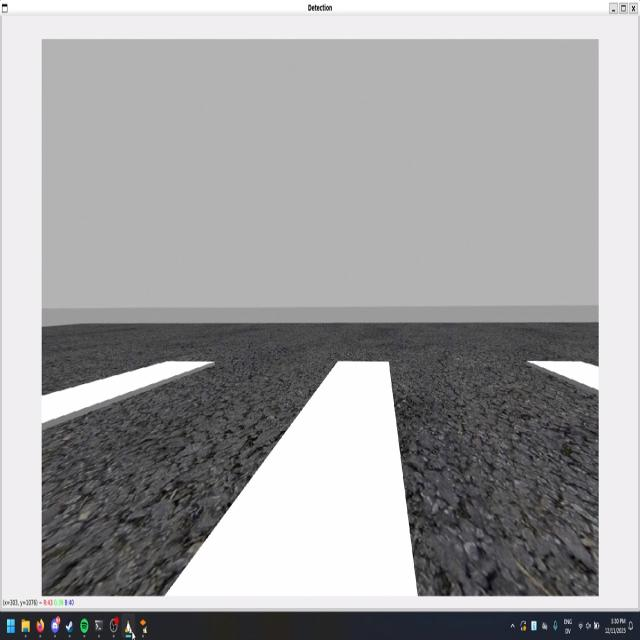crosswalk: (42, 358, 598, 596)
